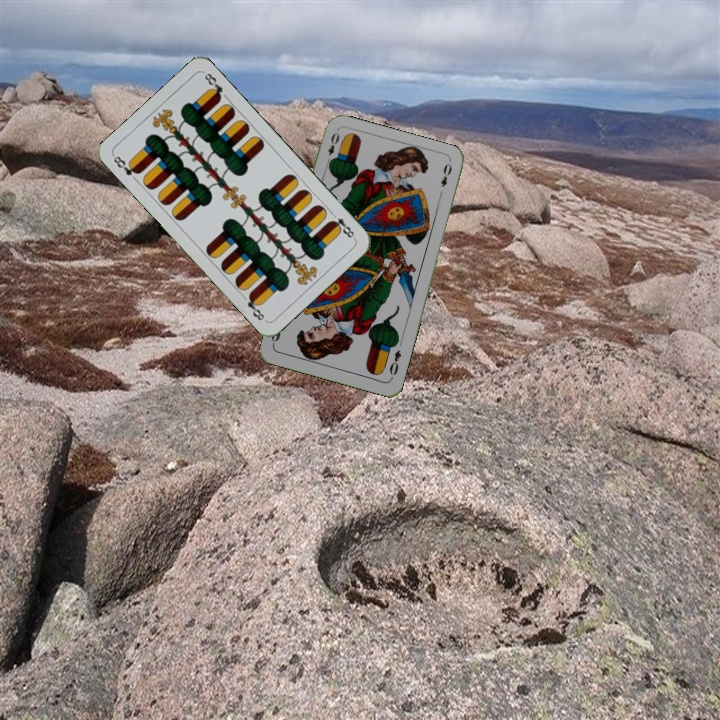E8: (326, 208, 358, 241), (109, 152, 143, 178)
EO: (322, 128, 342, 168), (385, 346, 404, 381)
